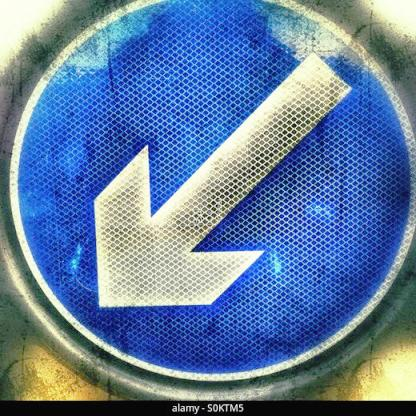Keep left: (8, 0, 416, 383)
